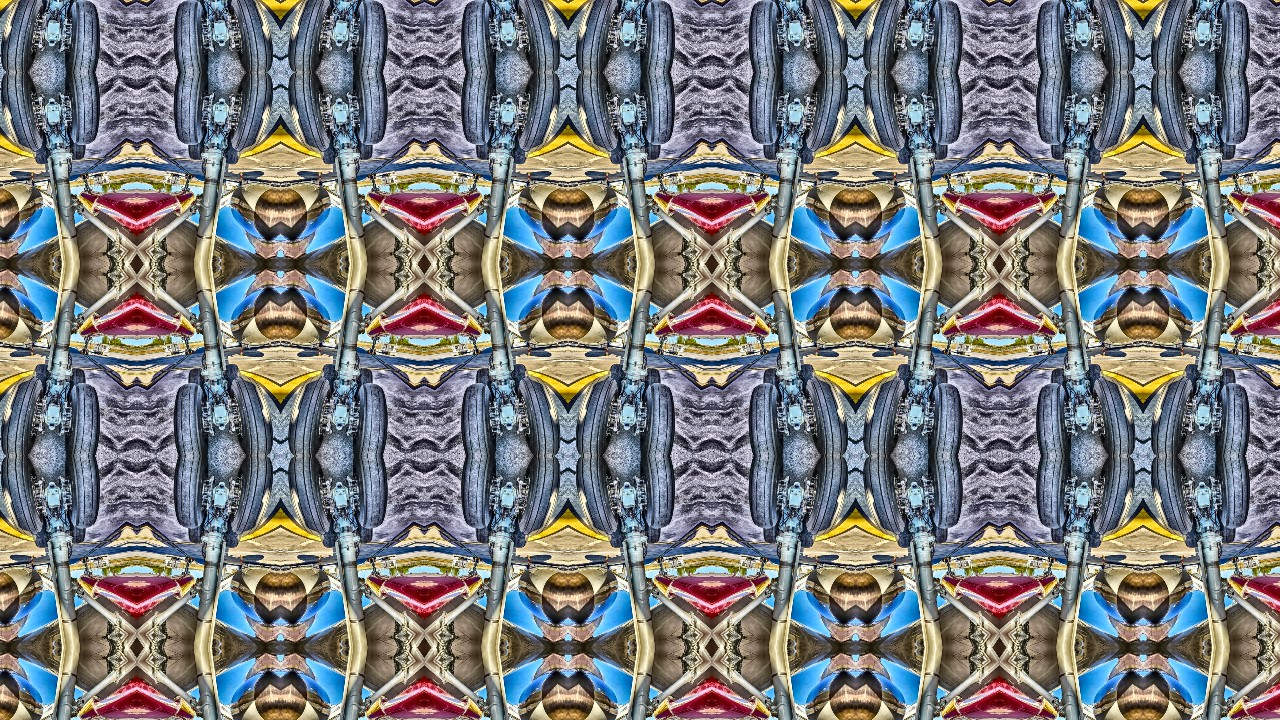chock: (81, 173, 84, 176), (188, 173, 191, 176), (369, 173, 372, 176), (476, 173, 479, 176), (657, 173, 660, 176), (764, 173, 767, 176), (945, 173, 948, 176), (1052, 173, 1055, 176), (1233, 173, 1236, 176), (81, 352, 84, 355), (188, 352, 191, 355), (369, 352, 372, 355), (476, 352, 479, 355), (657, 352, 660, 355), (764, 352, 767, 355), (945, 352, 948, 355), (1052, 352, 1055, 355), (1233, 352, 1236, 355), (81, 557, 84, 560), (188, 557, 191, 560), (369, 557, 372, 560), (476, 557, 479, 560), (657, 557, 660, 560), (764, 557, 767, 560), (945, 557, 948, 560), (1052, 557, 1055, 560), (1233, 557, 1236, 560)
wheel: (227, 72, 275, 155), (285, 72, 333, 155), (515, 72, 563, 155), (573, 72, 621, 155), (803, 72, 851, 155), (861, 72, 909, 155), (1091, 72, 1139, 155), (1149, 72, 1197, 155), (227, 373, 275, 456), (285, 373, 333, 456), (515, 373, 563, 456), (573, 373, 621, 456), (803, 373, 851, 456), (861, 373, 909, 456), (1091, 373, 1139, 456), (1149, 373, 1197, 456), (227, 456, 275, 539), (285, 456, 333, 539), (515, 456, 563, 539), (573, 456, 621, 539), (803, 456, 851, 539), (861, 456, 909, 539), (1091, 456, 1139, 539), (1149, 456, 1197, 539), (0, 72, 45, 155), (0, 373, 45, 456), (0, 456, 45, 539), (227, 0, 275, 72), (285, 0, 333, 72), (515, 0, 563, 72), (573, 0, 621, 72), (803, 0, 851, 72), (861, 0, 909, 72), (1091, 0, 1139, 72), (1149, 0, 1197, 72), (60, 72, 105, 146), (167, 72, 212, 146), (348, 72, 393, 146), (455, 72, 500, 146), (636, 72, 681, 146), (743, 72, 788, 146), (924, 72, 969, 146), (1031, 72, 1076, 146), (1212, 72, 1257, 146), (60, 382, 105, 456), (167, 382, 212, 456), (348, 382, 393, 456), (455, 382, 500, 456), (636, 382, 681, 456), (743, 382, 788, 456), (924, 382, 969, 456), (1031, 382, 1076, 456), (1212, 382, 1257, 456), (60, 456, 105, 530), (167, 456, 212, 530), (348, 456, 393, 530), (455, 456, 500, 530), (636, 456, 681, 530), (743, 456, 788, 530), (924, 456, 969, 530), (1031, 456, 1076, 530), (1212, 456, 1257, 530), (60, 0, 105, 72), (0, 0, 45, 72), (167, 0, 212, 72), (348, 0, 393, 72), (455, 0, 500, 72), (636, 0, 681, 72), (743, 0, 788, 72), (924, 0, 969, 72), (1031, 0, 1076, 72), (1212, 0, 1257, 72), (65, 127, 87, 161), (185, 127, 207, 161), (353, 127, 375, 161), (473, 127, 495, 161), (641, 127, 663, 161), (761, 127, 783, 161), (929, 127, 951, 161), (1049, 127, 1071, 161), (1217, 127, 1239, 161), (65, 367, 87, 401), (185, 367, 207, 401), (353, 367, 375, 401), (473, 367, 495, 401), (641, 367, 663, 401), (761, 367, 783, 401), (929, 367, 951, 401), (1049, 367, 1071, 401), (1217, 367, 1239, 401), (65, 511, 87, 545), (185, 511, 207, 545), (353, 511, 375, 545), (473, 511, 495, 545), (641, 511, 663, 545), (761, 511, 783, 545), (929, 511, 951, 545), (1049, 511, 1071, 545), (1217, 511, 1239, 545), (30, 134, 49, 166), (223, 134, 242, 166), (318, 134, 337, 166), (511, 134, 530, 166), (606, 134, 625, 166), (799, 134, 818, 166), (894, 134, 913, 166), (1087, 134, 1106, 166), (1182, 134, 1201, 166), (30, 362, 49, 394), (223, 362, 242, 394), (318, 362, 337, 394), (511, 362, 530, 394), (606, 362, 625, 394), (799, 362, 818, 394), (894, 362, 913, 394), (1087, 362, 1106, 394), (1182, 362, 1201, 394), (30, 518, 49, 550), (223, 518, 242, 550), (318, 518, 337, 550), (511, 518, 530, 550), (606, 518, 625, 550), (799, 518, 818, 550), (894, 518, 913, 550), (1087, 518, 1106, 550), (1182, 518, 1201, 550), (65, 0, 87, 17), (185, 0, 207, 17), (353, 0, 375, 17), (473, 0, 495, 17), (641, 0, 663, 17), (761, 0, 783, 17), (929, 0, 951, 17), (1049, 0, 1071, 17), (1217, 0, 1239, 17), (30, 0, 49, 10), (223, 0, 242, 10), (318, 0, 337, 10), (511, 0, 530, 10), (606, 0, 625, 10), (799, 0, 818, 10), (894, 0, 913, 10), (1087, 0, 1106, 10), (1182, 0, 1201, 10), (85, 174, 88, 179), (184, 174, 187, 179), (373, 174, 376, 179), (472, 174, 475, 179), (661, 174, 664, 179), (760, 174, 763, 179), (949, 174, 952, 179), (1048, 174, 1051, 179), (1237, 174, 1240, 179), (85, 349, 88, 354), (184, 349, 187, 354), (373, 349, 376, 354), (472, 349, 475, 354), (661, 349, 664, 354), (760, 349, 763, 354), (949, 349, 952, 354), (1048, 349, 1051, 354), (1237, 349, 1240, 354), (85, 558, 88, 563), (184, 558, 187, 563), (373, 558, 376, 563), (472, 558, 475, 563), (661, 558, 664, 563), (760, 558, 763, 563), (949, 558, 952, 563), (1048, 558, 1051, 563), (1237, 558, 1240, 563), (81, 175, 84, 179), (188, 175, 191, 179), (369, 175, 372, 179), (476, 175, 479, 179), (657, 175, 660, 179), (764, 175, 767, 179), (945, 175, 948, 179), (1052, 175, 1055, 179), (1233, 175, 1236, 179), (81, 349, 84, 353), (188, 349, 191, 353), (369, 349, 372, 353), (476, 349, 479, 353), (657, 349, 660, 353), (764, 349, 767, 353), (945, 349, 948, 353), (1052, 349, 1055, 353), (1233, 349, 1236, 353), (81, 559, 84, 563), (188, 559, 191, 563), (369, 559, 372, 563), (476, 559, 479, 563), (657, 559, 660, 563), (764, 559, 767, 563), (945, 559, 948, 563), (1052, 559, 1055, 563), (1233, 559, 1236, 563)
